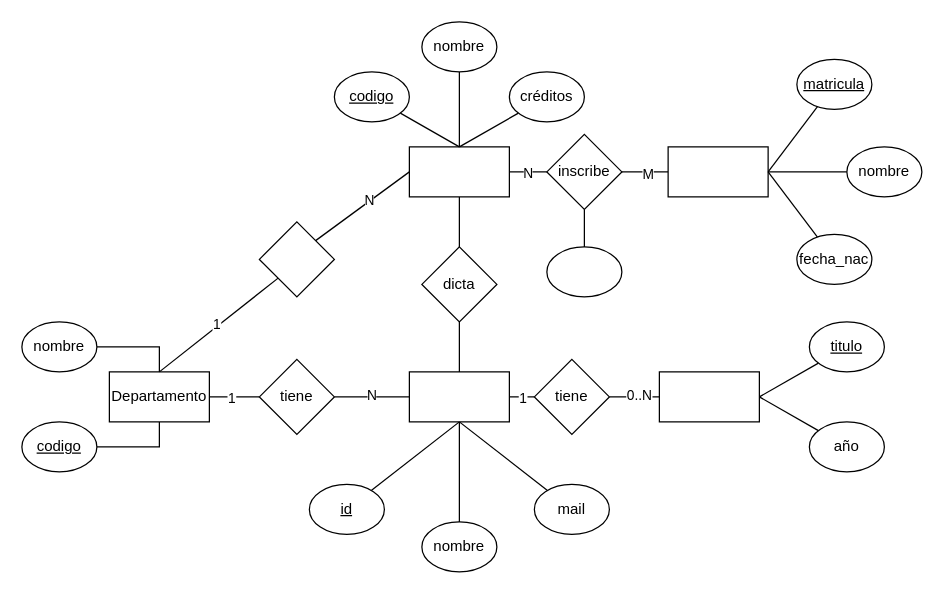
The diagram is 944 pixels wide and 594 high, and some of its shapes have lost their labels. Here are the shapes that lost their labels. From the top down, the box of each, then its label:
(408, 146, 509, 197): Materia
(667, 146, 768, 197): Estudiante
(258, 221, 334, 297): pertnece
(546, 246, 622, 297): nota
(408, 371, 509, 422): Profesor
(658, 371, 759, 422): Publicacion
